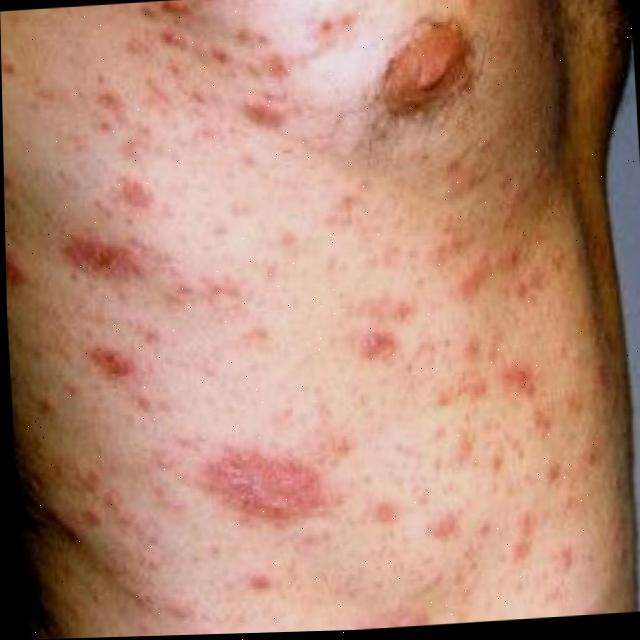Rosacea: (0, 0, 607, 640)
